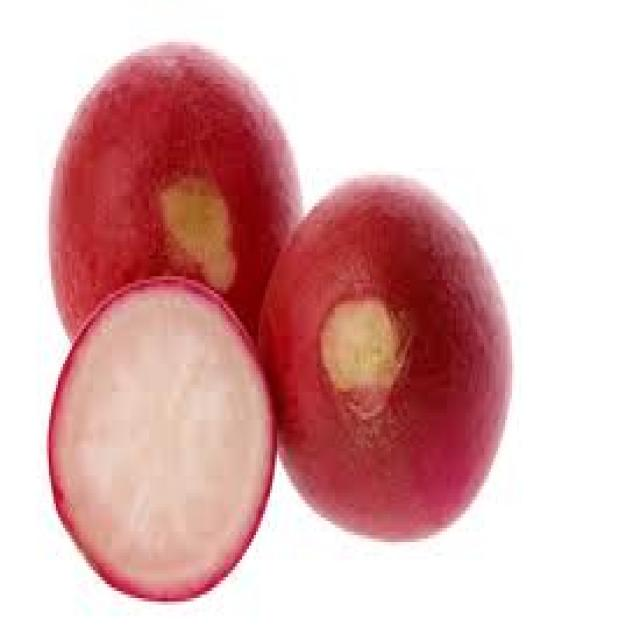radish: (24, 0, 528, 612)
